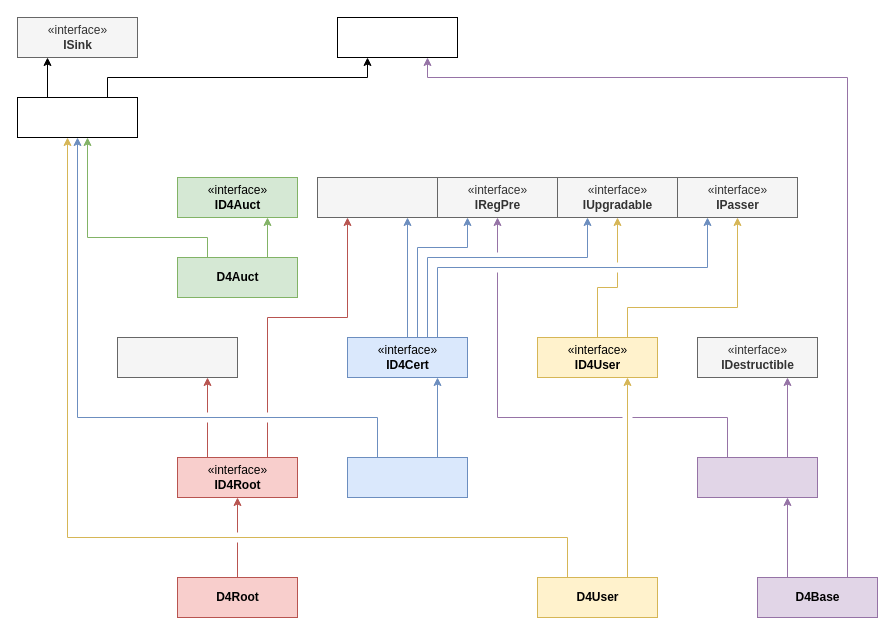
Image size: 895x635. Some labels were removed from this diagram. The shapes that lost their labels are listed below. From the top down, each one's centre as x and y in pixels, then its label:
At (397,37): "D4PureBase".
At (77,117): "D4Based".
At (377,197): "«interface» ISafeOwner".
At (177,357): "«interface» IClient".
At (407,477): "D4Cert".
At (757,477): "«interface» ID4Base".
